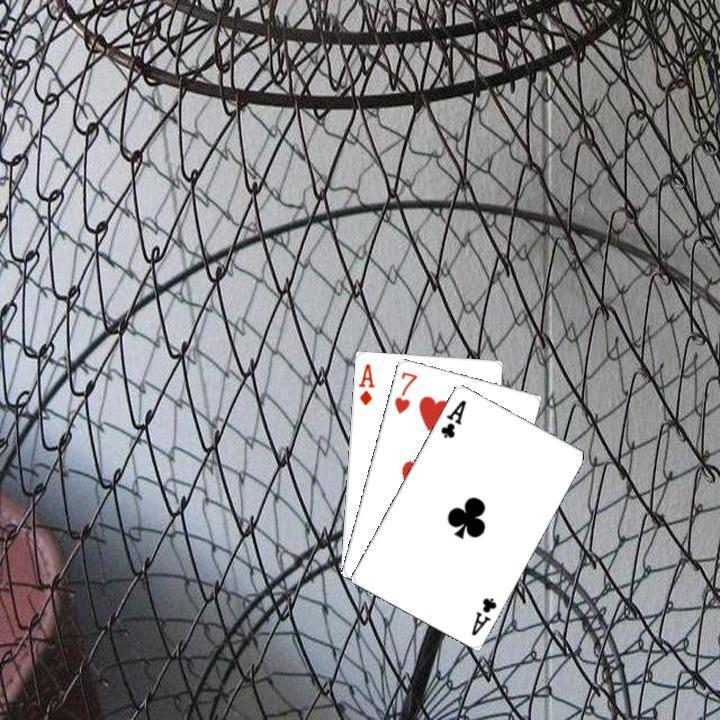7: (390, 367, 419, 416)
A: (466, 593, 499, 637), (436, 395, 468, 440), (354, 359, 376, 407)
